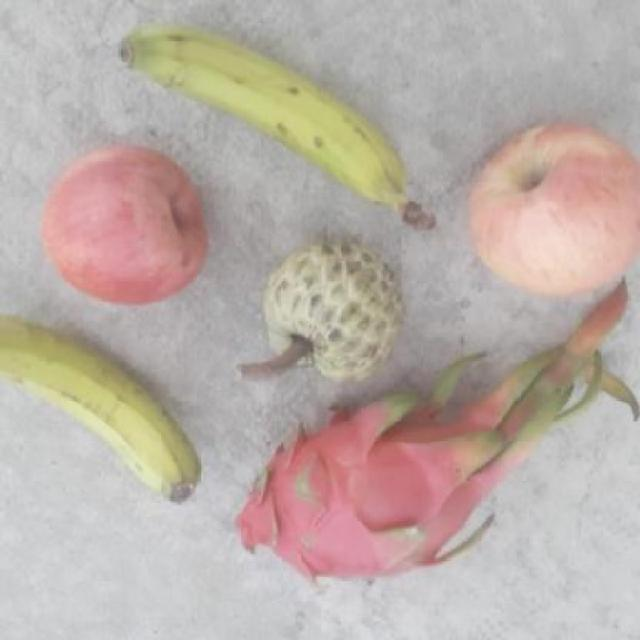apple: (454, 115, 638, 317), (40, 138, 212, 305)
banana: (97, 23, 432, 232), (1, 306, 204, 506)
dragon fruit: (225, 386, 513, 597)
sugar apple: (247, 238, 407, 392)
